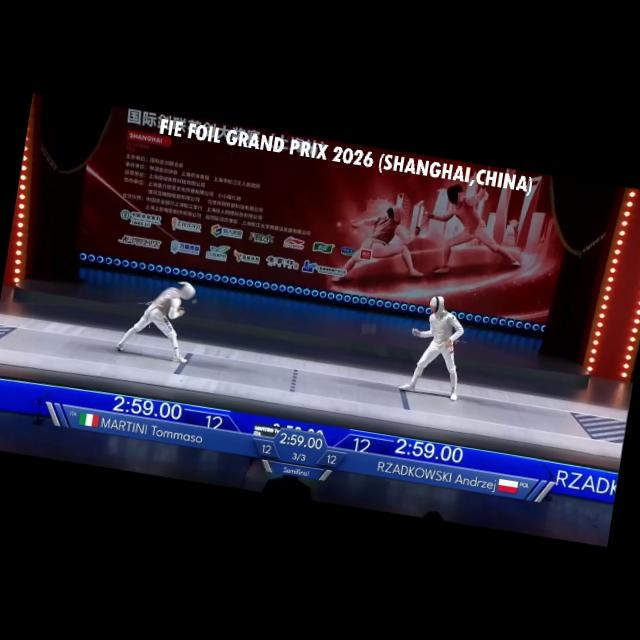blade: (355, 318, 419, 344), (178, 297, 200, 318)
